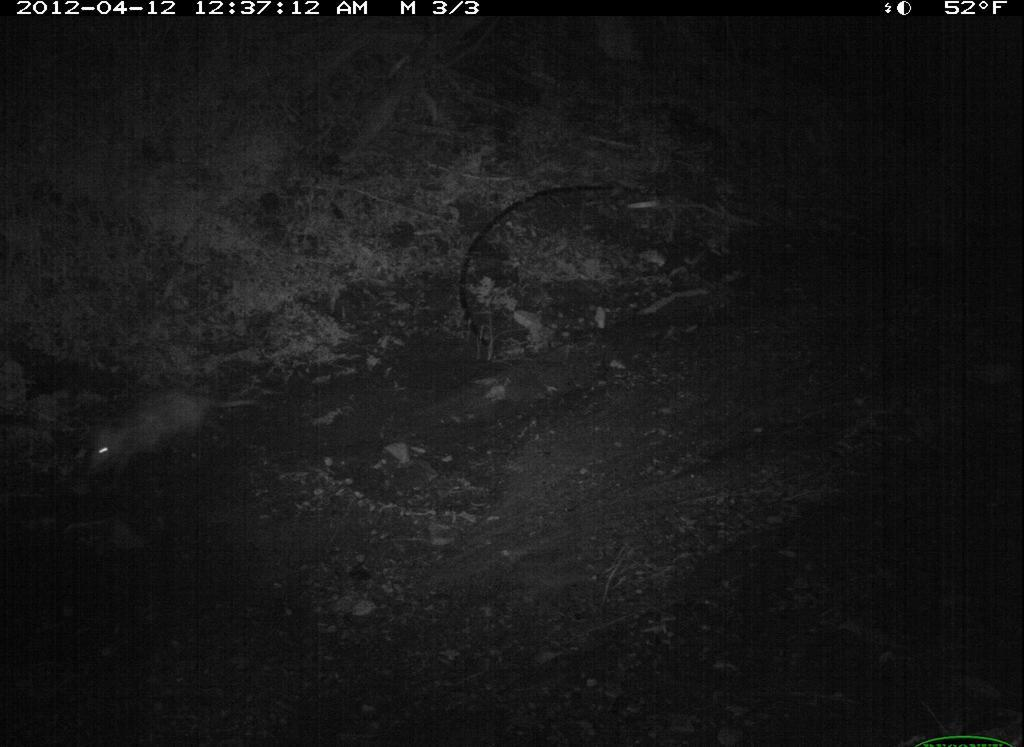opossum: (71, 373, 283, 492)
